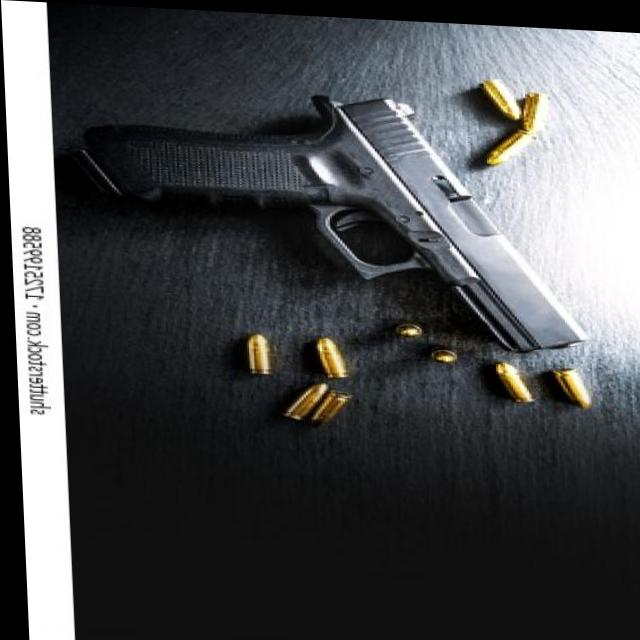handgun: (63, 83, 595, 349)
